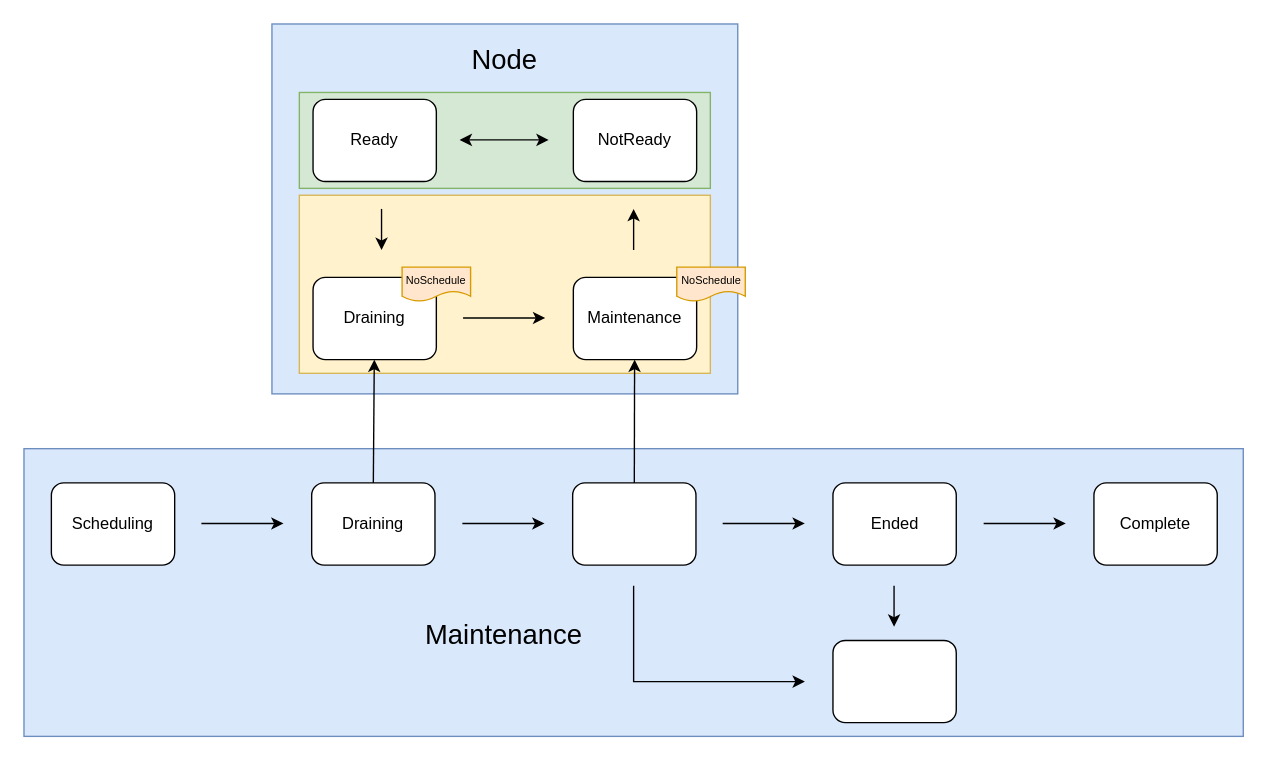
This 1267x760 diagram has some shape labels left out. The centre of each missing label's shape, as x and y in pixels:
"Incomplete" belongs at (x=894, y=681).
"InProgress" belongs at (x=633, y=523).
